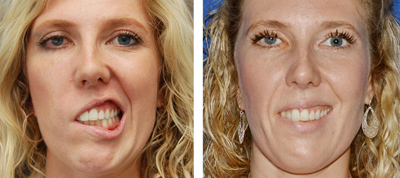stroke: (34, 14, 147, 147)
